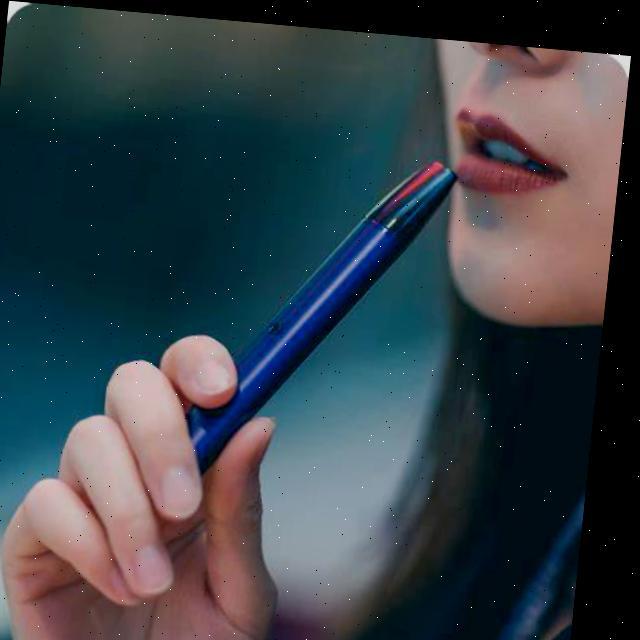vape: (192, 132, 461, 489)
